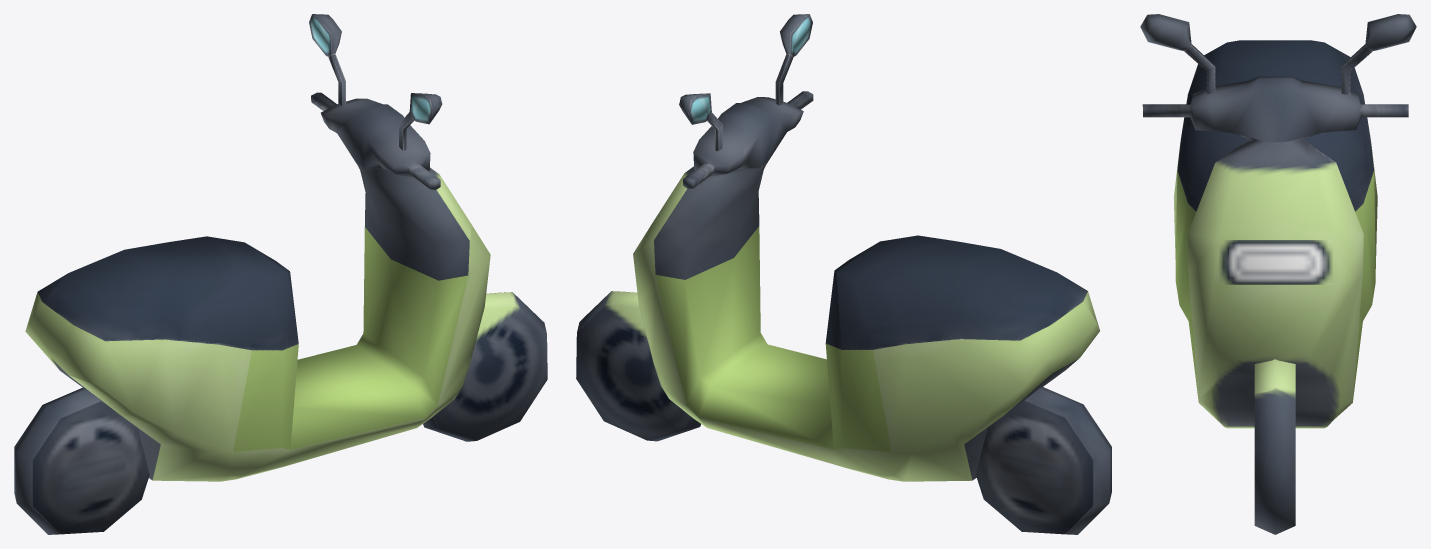
File: Green_scooter.glb
3 views of the same model, side by side, from view 1: azimuth 30°, elevation 25°; view 2: azimuth 150°, elevation 25°; view 3: azimuth 270°, elevation 25° (orthographic). The views are drawn at different scales.
Visible parts, largest first — view 1: Green_scooter.001; view 2: Green_scooter.001; view 3: Green_scooter.001.
Boxes of the visible parts, x1,y1,x2,y2 form: Green_scooter.001: (14, 14, 547, 534); Green_scooter.001: (576, 14, 1111, 534); Green_scooter.001: (1140, 14, 1416, 534).
Bounding box in the file's own units: 1.01 × 0.7454 × 0.411.
Materials: 1 (1 with a texture image).
